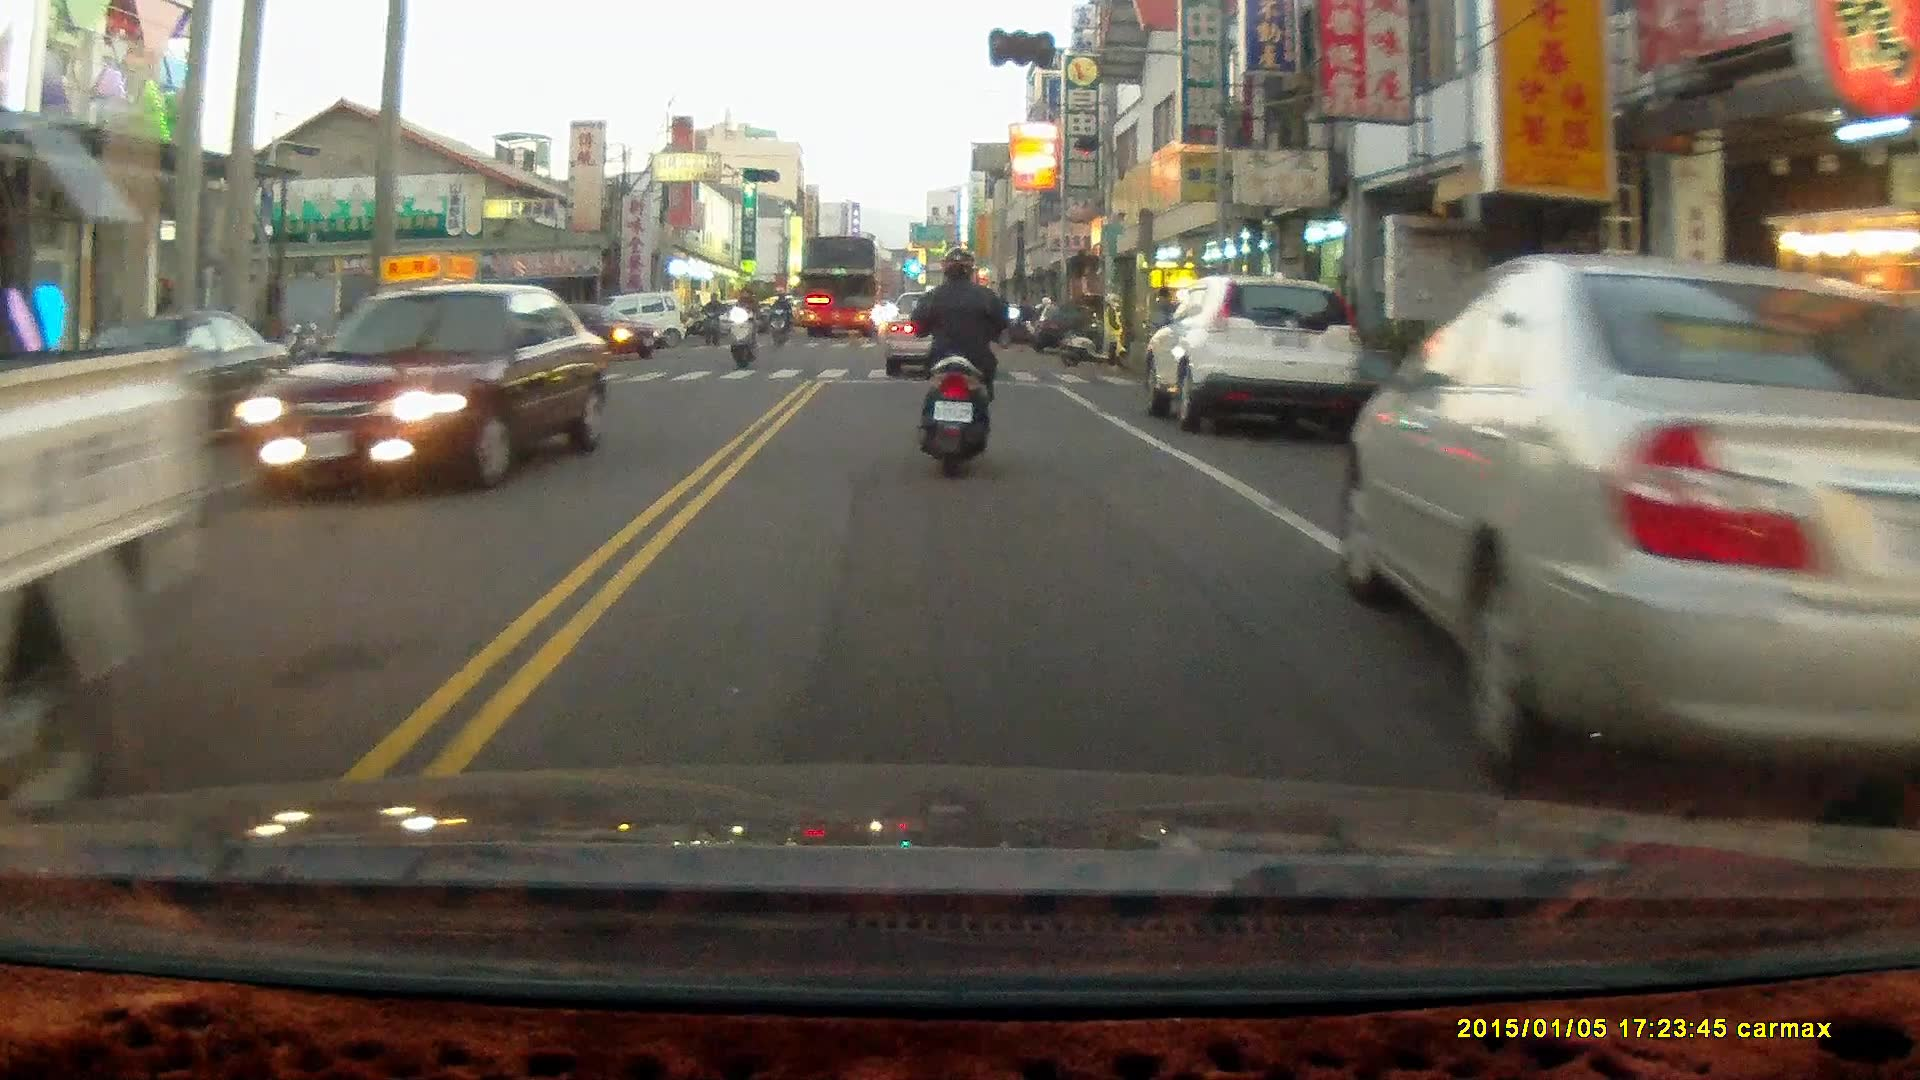pedestrian: (1097, 290, 1124, 371)
rider: (907, 243, 1021, 476), (724, 284, 758, 369), (698, 288, 721, 345), (768, 287, 789, 348)
vehicle: (1341, 249, 1919, 789), (221, 278, 620, 497), (44, 312, 283, 468), (1146, 275, 1359, 433), (797, 233, 884, 341), (882, 294, 985, 378)
